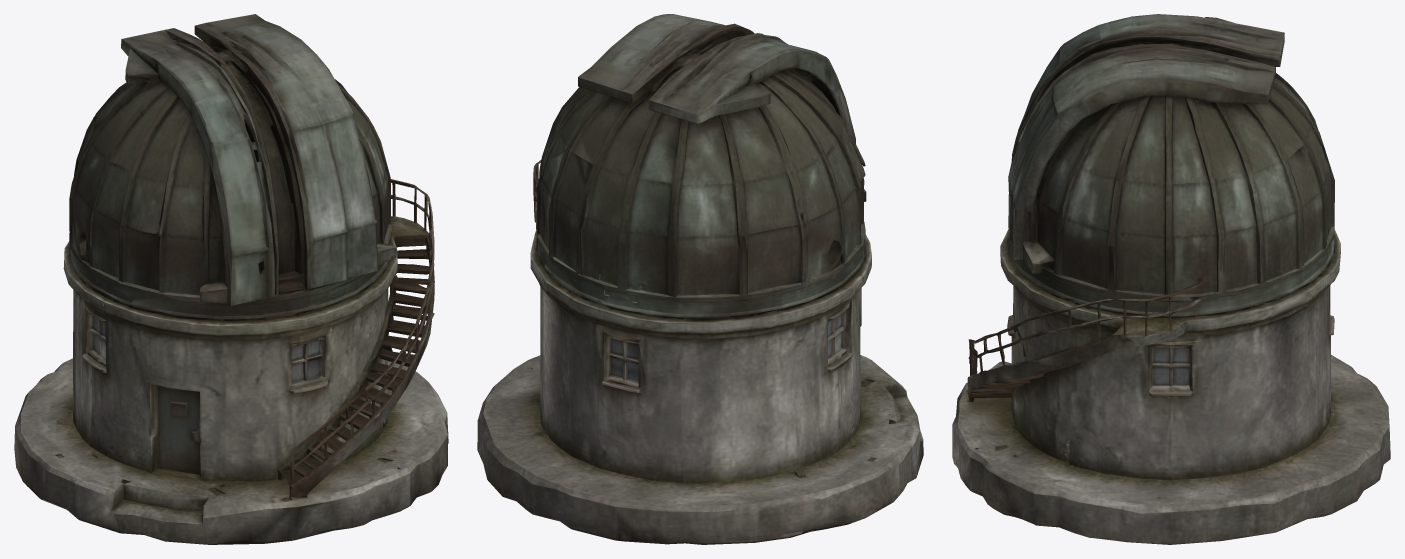
The model's file is lm_observatory.glb.
3 views of the same model, side by side, from view 1: azimuth 30°, elevation 25°; view 2: azimuth 150°, elevation 25°; view 3: azimuth 270°, elevation 25° (orthographic). The views are drawn at different scales.
Visible parts, largest first — view 1: world; view 2: world; view 3: world.
Part boxes in pixels (bbox=[...]): world: bbox=[14, 14, 448, 544]; world: bbox=[477, 14, 923, 544]; world: bbox=[952, 14, 1390, 544].
Bounding box in the file's own units: 21.56 × 22 × 21.25.
1 material, 1 textured.
